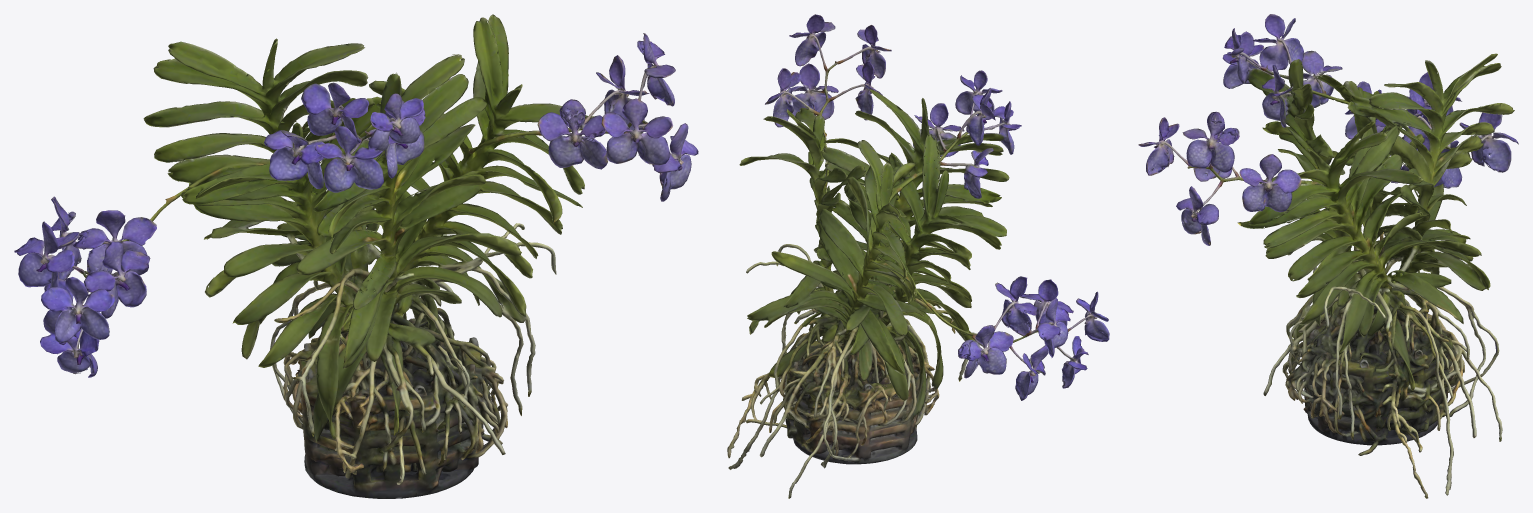
The model's file is Vanda_coerulea-100k-2048_std_draco.glb.
3 renders of one model, left to right at view 1: azimuth 30°, elevation 25°; view 2: azimuth 150°, elevation 25°; view 3: azimuth 270°, elevation 25°, orthographic. The views are drawn at different scales.
Size of the model in its own units: 7.34 by 6.5 by 5.65.
Materials: 1 (1 with a texture image).
